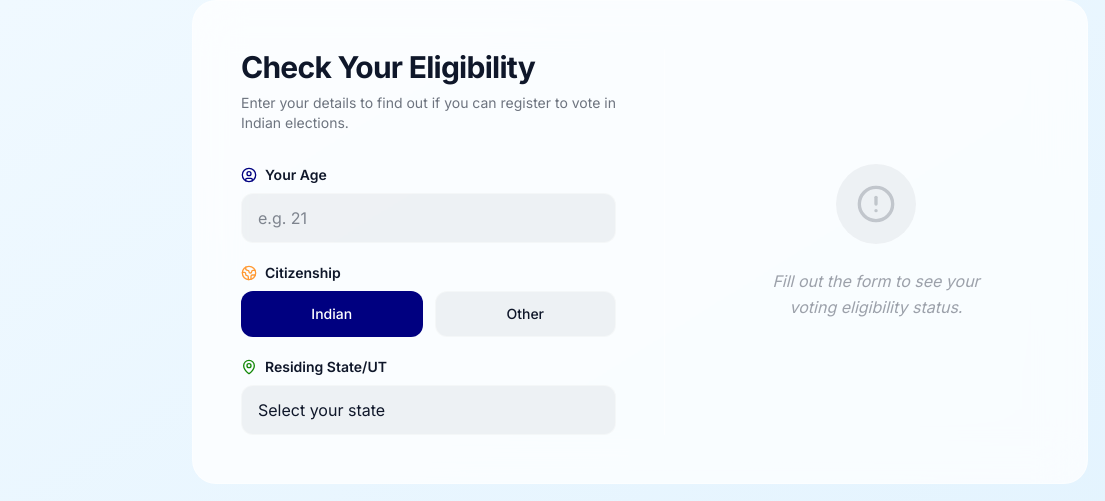
Test: EligibilityChecker Component › Eligibility Logic › shows NOT ELIGIBLE for 16-year-old non-Indian (both reasons shown)
Type "16" into the number field with placeholder "e.g. 21" at point(428, 218), box [241, 193, 616, 243]
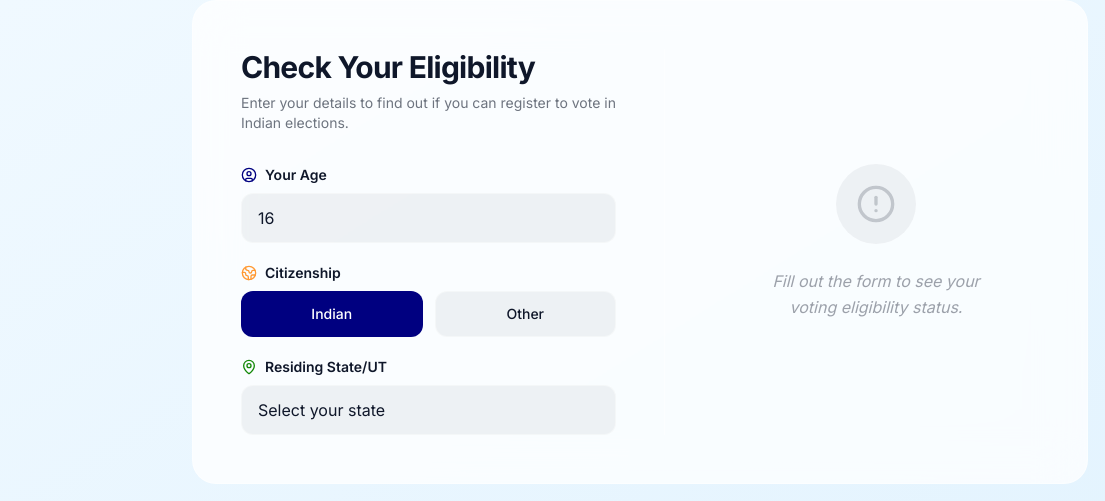
Click the button "Other" at point(525, 314), box [434, 291, 616, 337]
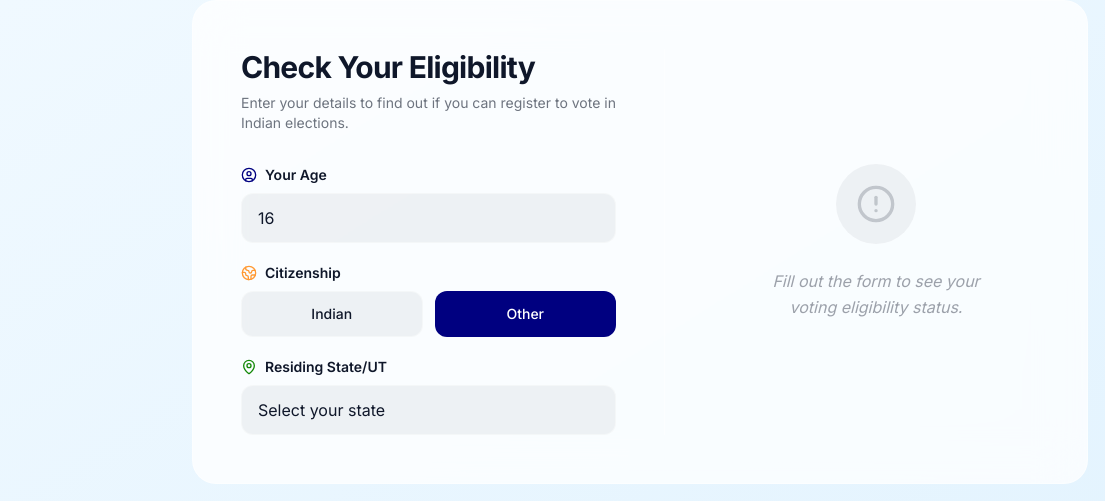
Select "Delhi" in the dropdown at point(428, 410), box [241, 385, 616, 435]
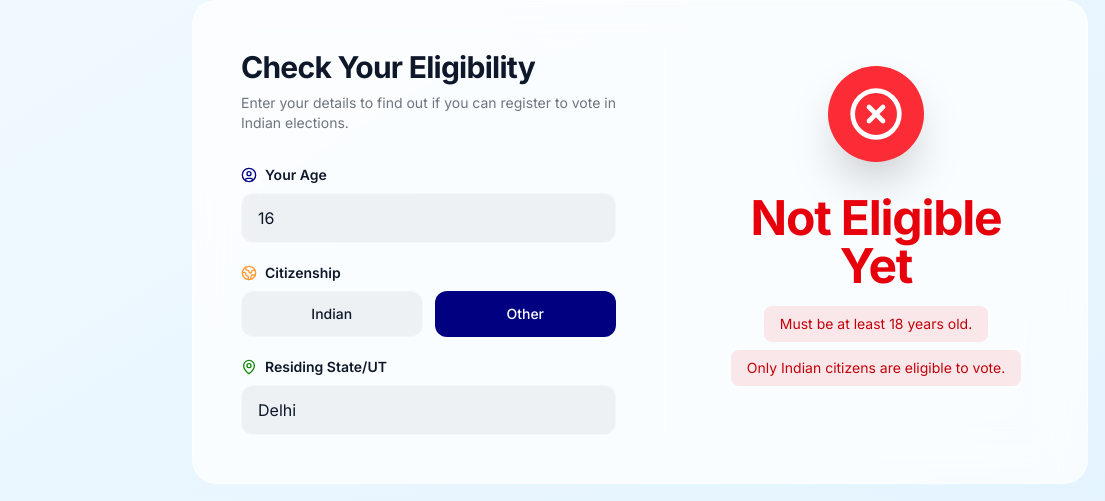
Result: the heading "Not Eligible Yet" is shown at [750, 188, 1001, 295]
Result: the text "Must be at least 18 years old." is shown at [764, 306, 988, 342]
Result: the text "Only Indian citizens are eligible to vote." is shown at [731, 350, 1021, 386]
